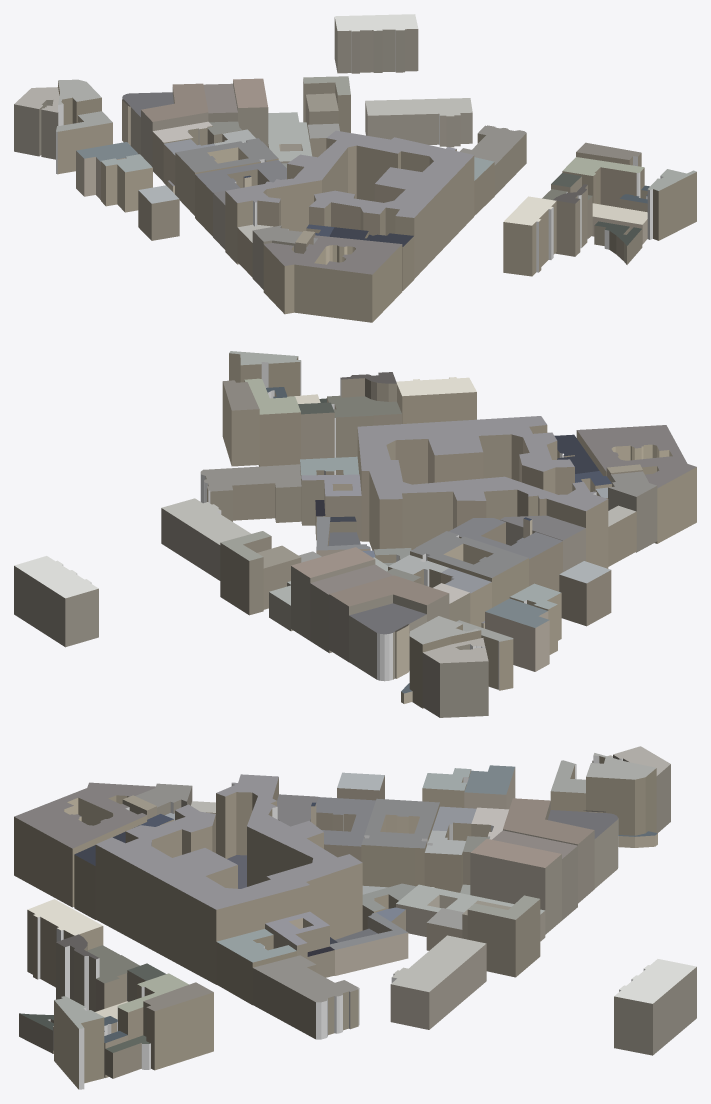
3 views of the same model, one above another, from view 1: azimuth 30°, elevation 25°; view 2: azimuth 150°, elevation 25°; view 3: azimuth 270°, elevation 25° (orthographic). The views are drawn at different scales.
Visible parts, largest first — view 1: tuile; view 2: tuile; view 3: tuile.
Boxes of the visible parts, x1=… form: tuile: x1=14, y1=14, x2=696, y2=322; tuile: x1=14, y1=351, x2=696, y2=717; tuile: x1=14, y1=746, x2=696, y2=1089.
Size of the model in its own units: 262 by 38.4 by 280.
